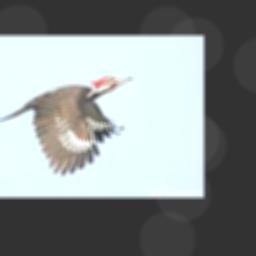Woodpecker: (0, 76, 132, 176)
